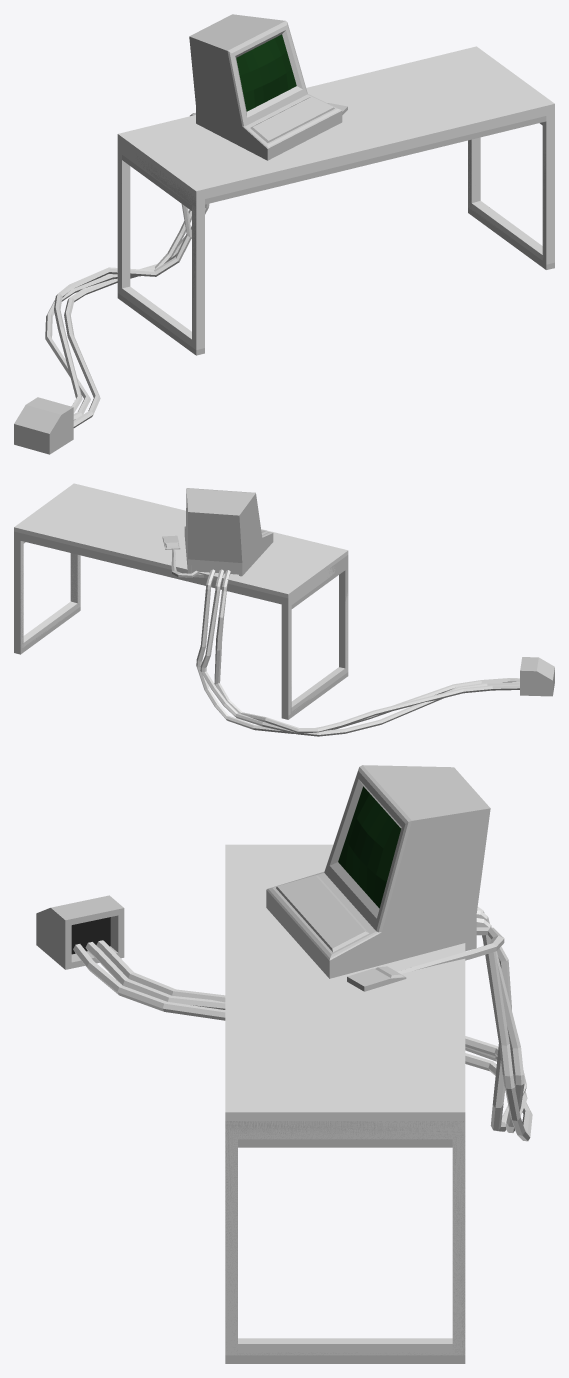
The model's file is Computer.fbx.
The picture shows the model from 3 angles, top to bottom: view 1: azimuth 30°, elevation 25°; view 2: azimuth 150°, elevation 25°; view 3: azimuth 270°, elevation 25°; orthographic projection. The views are drawn at different scales.
Visible parts, largest first — view 1: Table.001, Computer, Table, Power block, Power cable 2, Power cable 1, Power cable 3; view 2: Table.001, Table, Computer, Power cable 2, Power cable 3, Power cable 1, Power block; view 3: Table.001, Computer, Table, Power cable 1, Power block, Power cable 3, Power cable 2, Mouse cable, Mouse.
Boxes of the visible parts, left/top/right/bottom form: Table.001: left=117, top=46, right=554, bottom=349; Computer: left=189, top=14, right=342, bottom=160; Table: left=117, top=116, right=554, bottom=355; Power block: left=14, top=397, right=73, bottom=454; Power cable 2: left=54, top=113, right=195, bottom=413; Power cable 1: left=64, top=203, right=209, bottom=427; Power cable 3: left=45, top=210, right=191, bottom=419; Table.001: left=14, top=483, right=348, bottom=715; Table: left=14, top=531, right=348, bottom=719; Computer: left=184, top=488, right=273, bottom=577; Power cable 2: left=214, top=570, right=519, bottom=733; Power cable 3: left=200, top=569, right=519, bottom=736; Power cable 1: left=196, top=569, right=519, bottom=733; Power block: left=520, top=657, right=554, bottom=696; Table.001: left=225, top=844, right=465, bottom=1355; Computer: left=266, top=765, right=490, bottom=978; Table: left=225, top=1121, right=465, bottom=1363; Power cable 1: left=73, top=918, right=532, bottom=1141; Power block: left=36, top=895, right=124, bottom=969; Power cable 3: left=85, top=910, right=527, bottom=1132; Power cable 2: left=96, top=906, right=526, bottom=1131; Mouse cable: left=397, top=927, right=504, bottom=973; Mouse: left=347, top=966, right=406, bottom=991.
Size of the model in its own units: 1288 by 542 by 620.
